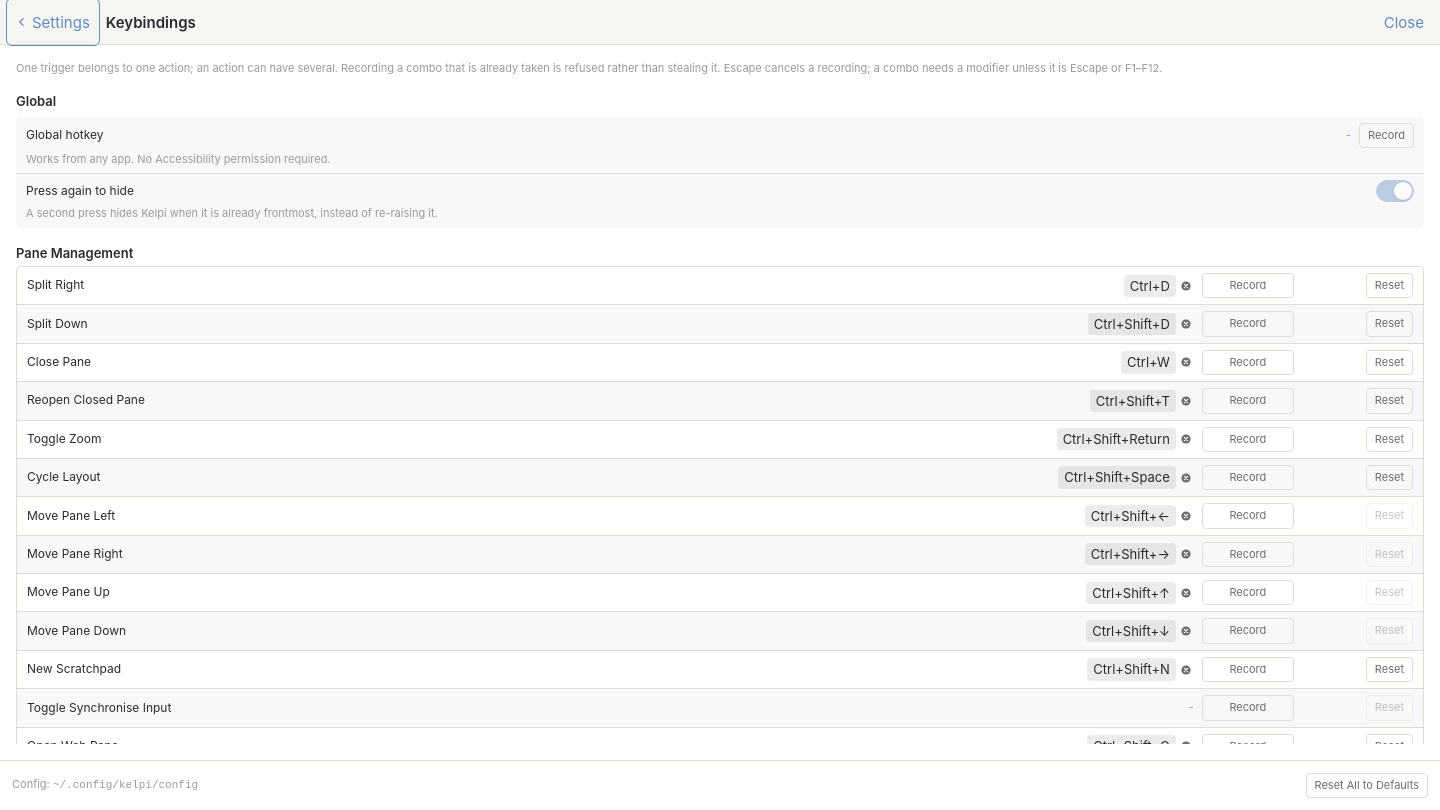
Test case: the Settings sheet on a phone › deep-opens straight onto a tab, with the back button
This screenshot has width=1440, height=810.
Expected: the element with test id "settings-toolbar" shows "Keybindings", [106,12,196,32]
// …and back from a deep link still lands on the list, not on nothing.
Click the button with test id "settings-phone-back" at x=53, y=22, box [8,0,98,44]
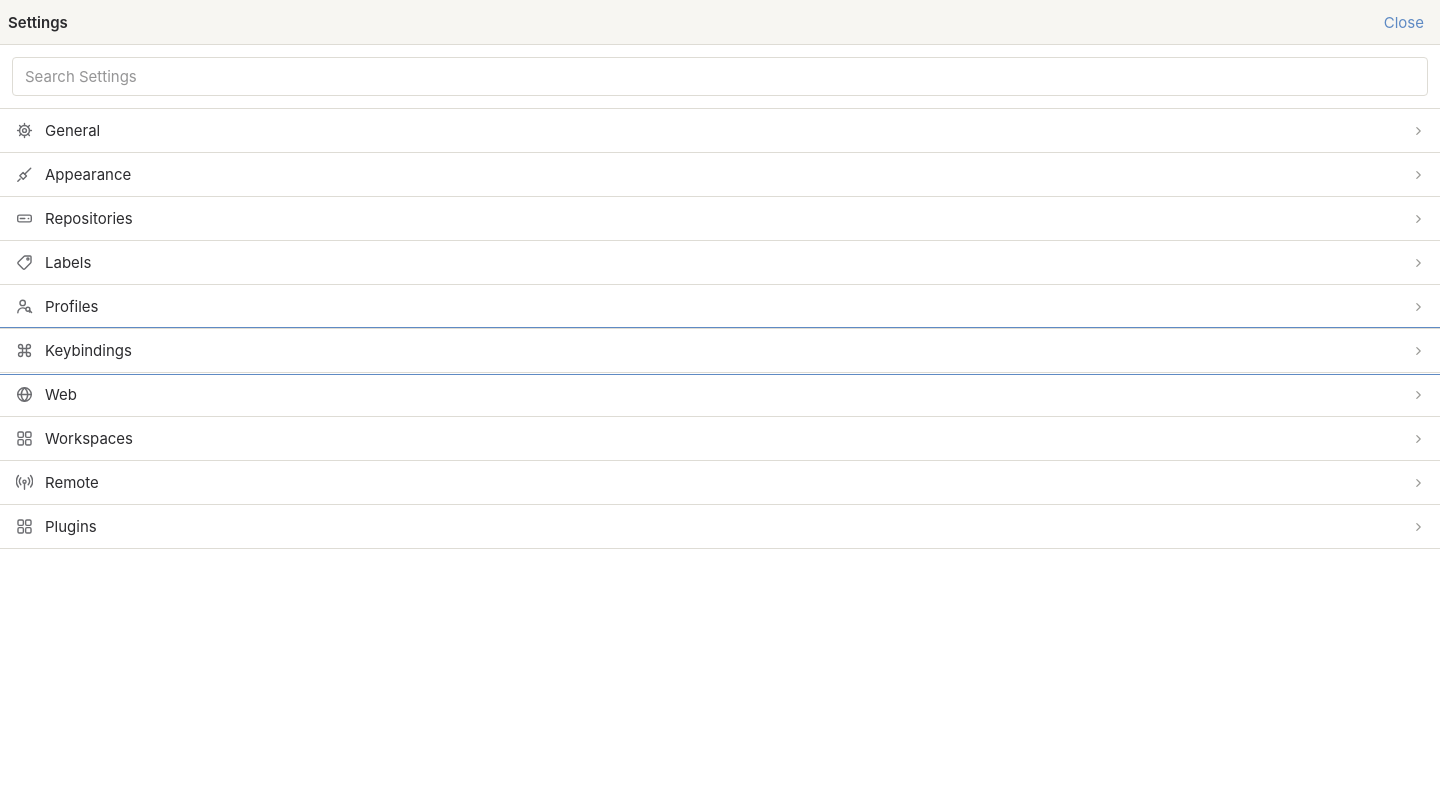
Now the element with test id "settings-phone-list" is shown
